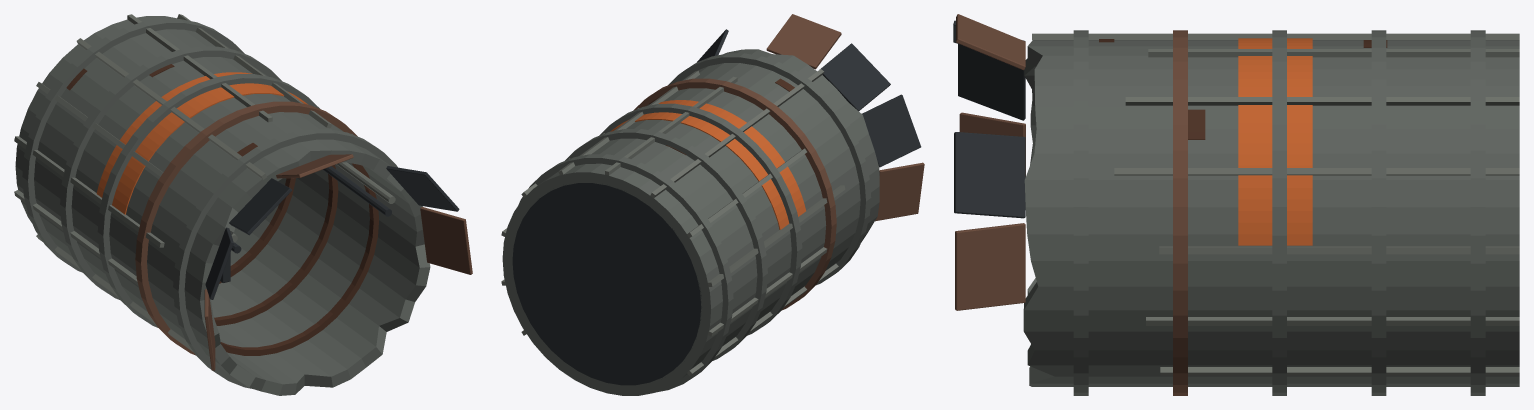
Rendered from site_engine.glb.
The picture shows the model from 3 angles, left to right: view 1: azimuth 30°, elevation 25°; view 2: azimuth 150°, elevation 25°; view 3: azimuth 270°, elevation 25°; orthographic projection. The views are drawn at different scales.
Parts seen in each view (by area): view 1: ring0, housing, conduit-1_0, iframe0, bulkhead, band; view 2: ring0, bulkhead, housing, conduit-1_0, band; view 3: ring0, conduit-1_0, housing, band, bulkhead, iframe0.
Part boxes in pixels (x1,y1,x2,y2): ring0: (15, 16, 430, 395); housing: (135, 101, 472, 370); conduit-1_0: (14, 14, 395, 352); iframe0: (66, 64, 378, 355); bulkhead: (205, 166, 459, 299); band: (96, 72, 307, 214); ring0: (502, 49, 879, 395); bulkhead: (512, 29, 921, 385); housing: (633, 14, 924, 310); conduit-1_0: (501, 69, 845, 375); band: (610, 100, 805, 229); ring0: (1023, 30, 1519, 395); conduit-1_0: (1032, 33, 1519, 375); housing: (955, 14, 1187, 395); band: (1238, 38, 1312, 245); bulkhead: (953, 20, 1025, 218); iframe0: (1099, 39, 1387, 139).
Bounding box in the file's own units: 9.78 × 9.25 × 13.69.
